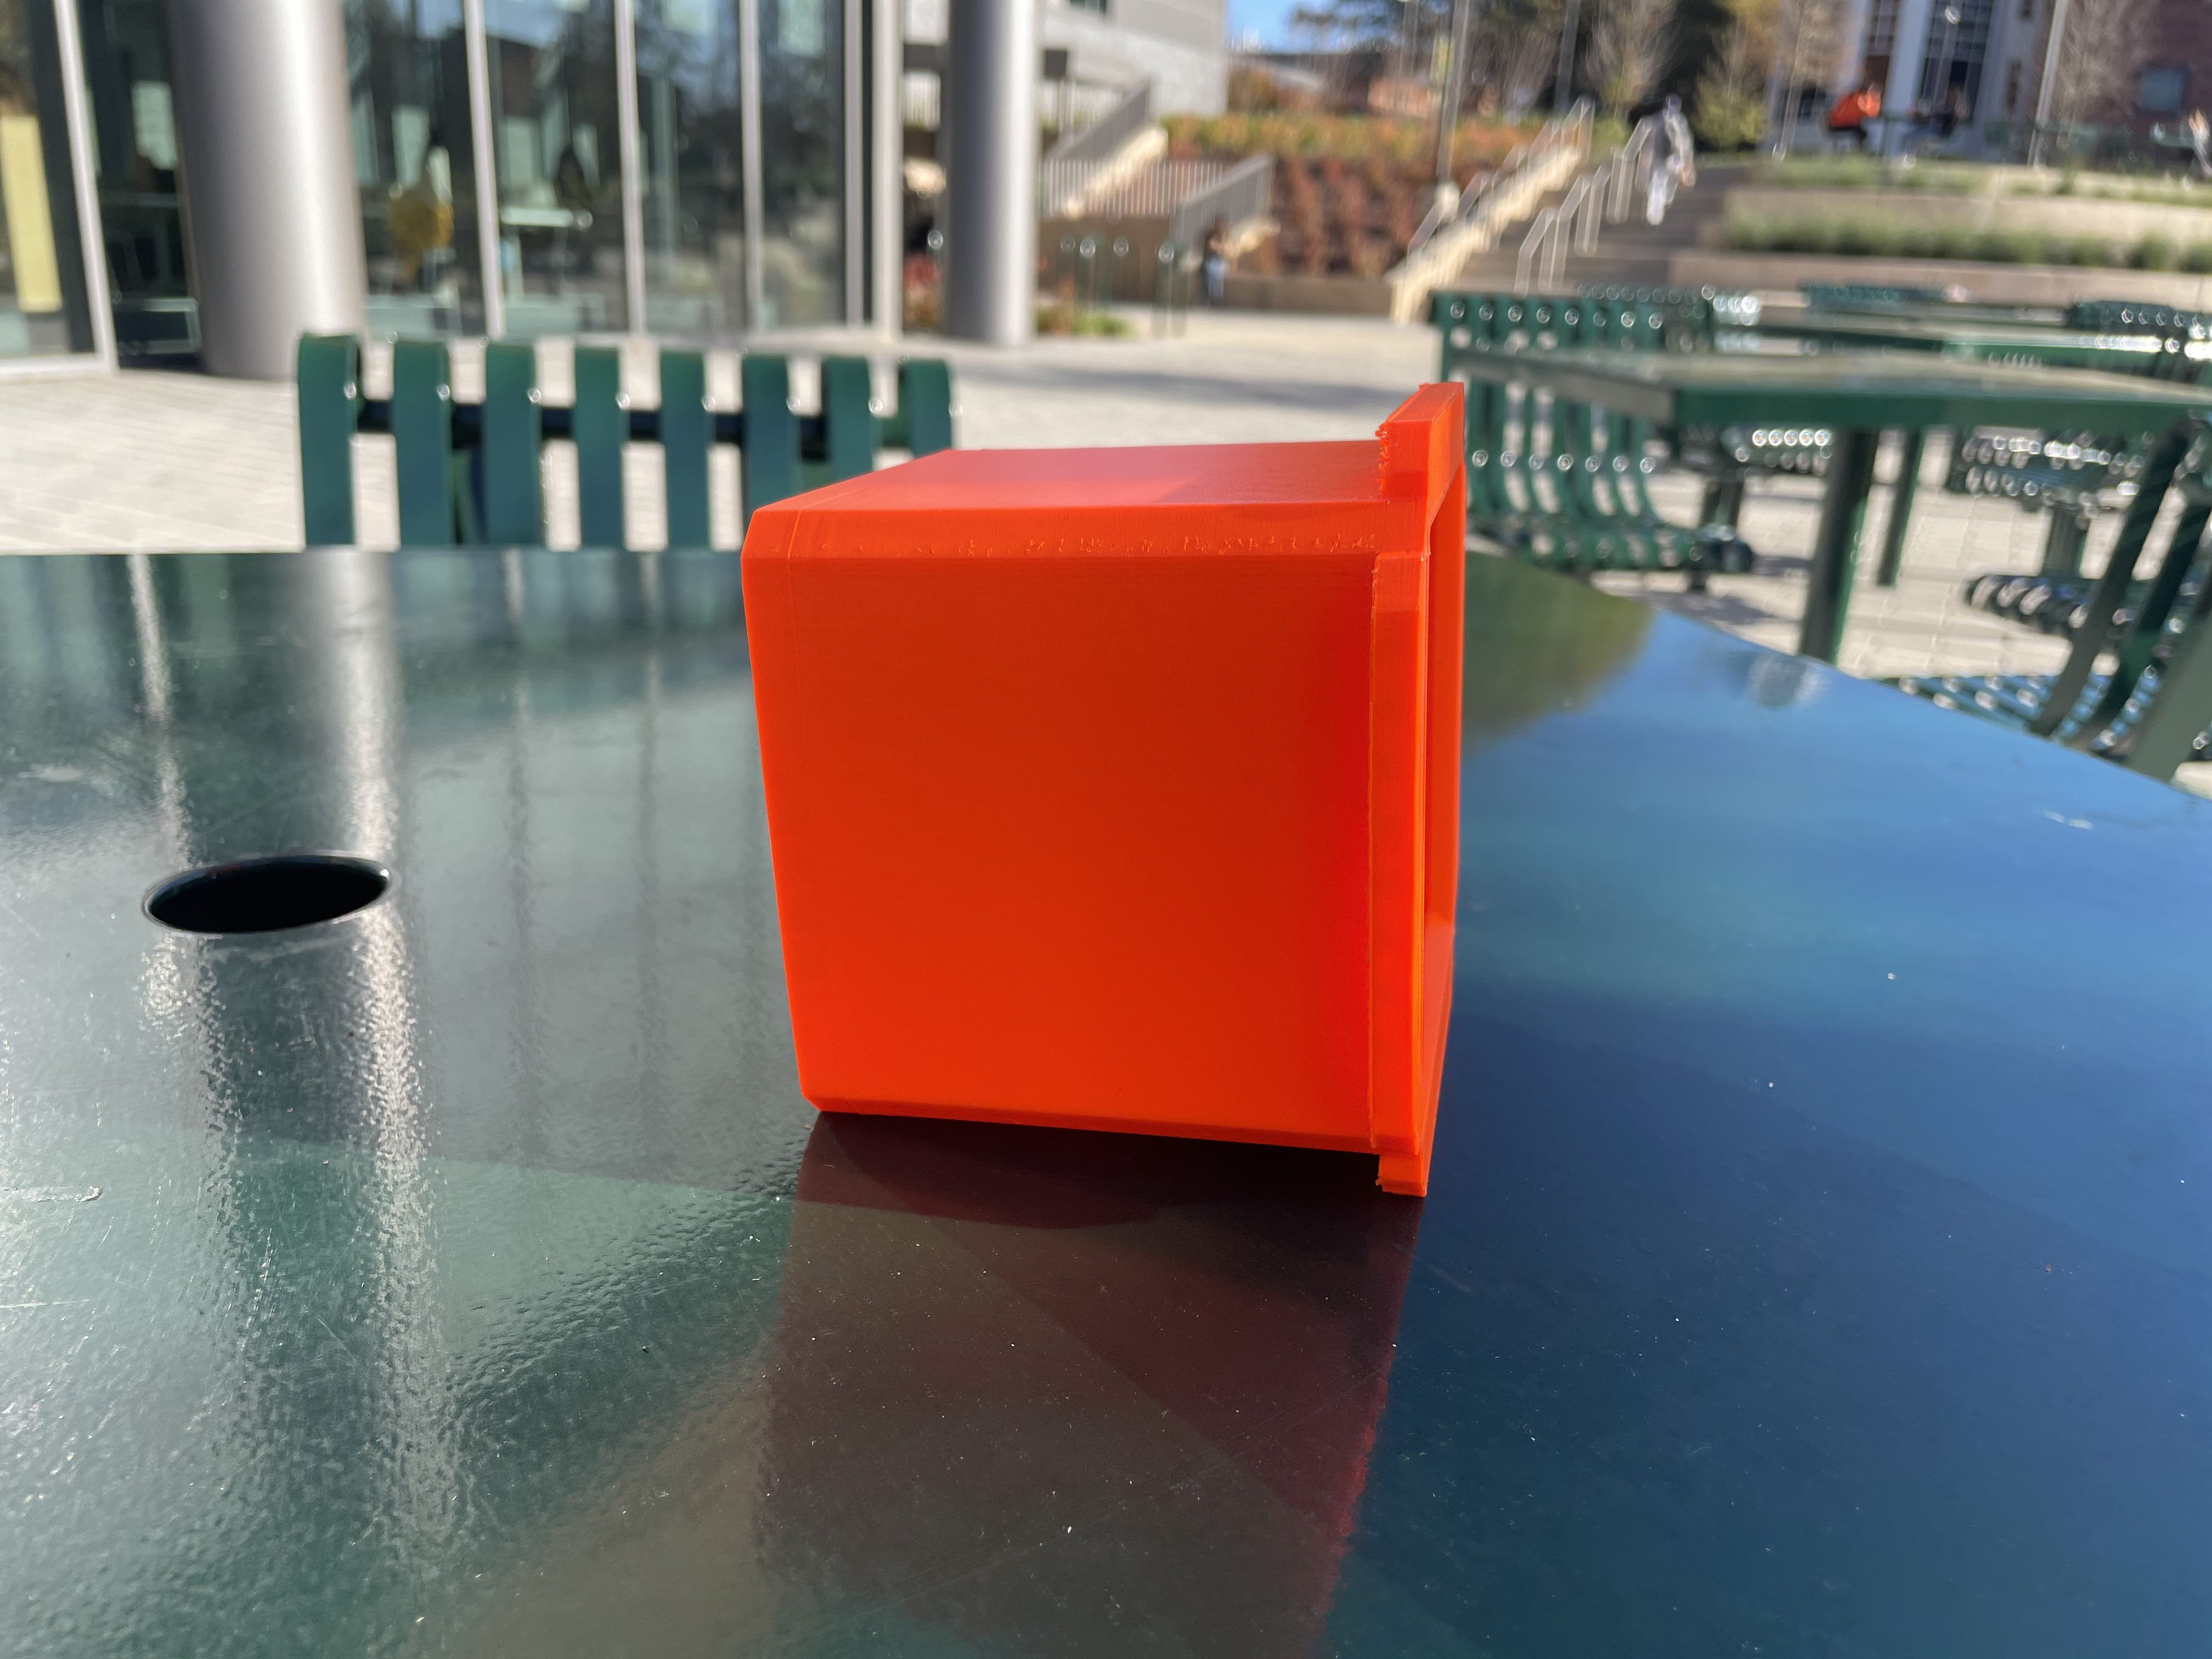payload1: (728, 375, 1512, 1225)
